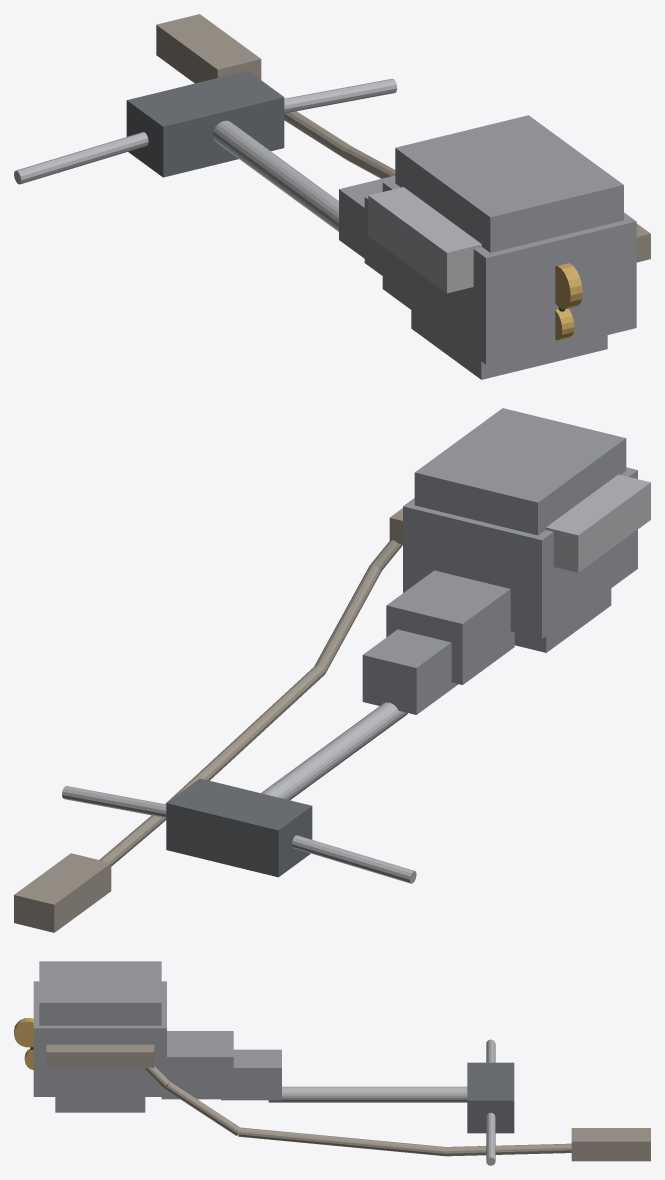
File: engine.glb
The picture shows the model from 3 angles, top to bottom: view 1: azimuth 30°, elevation 25°; view 2: azimuth 150°, elevation 25°; view 3: azimuth 270°, elevation 25°; orthographic projection. The views are drawn at different scales.
Visible parts, largest first — view 1: EngineBlockMesh, DifferentialMesh, IntakeMesh, ExhaustMesh, DriveshaftMesh, TransmissionMesh, AccessoryDriveMesh; view 2: EngineBlockMesh, TransmissionMesh, DifferentialMesh, ExhaustMesh, IntakeMesh, DriveshaftMesh; view 3: EngineBlockMesh, ExhaustMesh, TransmissionMesh, DifferentialMesh, DriveshaftMesh, AccessoryDriveMesh.
Boxes of the visible parts, bbox=[...] form: EngineBlockMesh: bbox=[382, 115, 636, 379]; DifferentialMesh: bbox=[14, 70, 397, 184]; IntakeMesh: bbox=[368, 187, 481, 293]; ExhaustMesh: bbox=[156, 14, 650, 262]; DriveshaftMesh: bbox=[213, 120, 338, 231]; TransmissionMesh: bbox=[339, 175, 395, 275]; AccessoryDriveMesh: bbox=[555, 263, 582, 340]; EngineBlockMesh: bbox=[403, 408, 637, 652]; TransmissionMesh: bbox=[362, 570, 514, 714]; DifferentialMesh: bbox=[62, 778, 416, 883]; ExhaustMesh: bbox=[14, 508, 402, 932]; IntakeMesh: bbox=[546, 474, 650, 572]; DriveshaftMesh: bbox=[261, 702, 407, 800]; EngineBlockMesh: bbox=[33, 961, 166, 1112]; ExhaustMesh: bbox=[46, 1044, 650, 1161]; TransmissionMesh: bbox=[161, 1031, 281, 1100]; DifferentialMesh: bbox=[467, 1039, 514, 1165]; DriveshaftMesh: bbox=[268, 1086, 467, 1102]; AccessoryDriveMesh: bbox=[14, 1018, 33, 1069].
Size of the model in its own units: 1.55 by 0.87 by 3.54.
